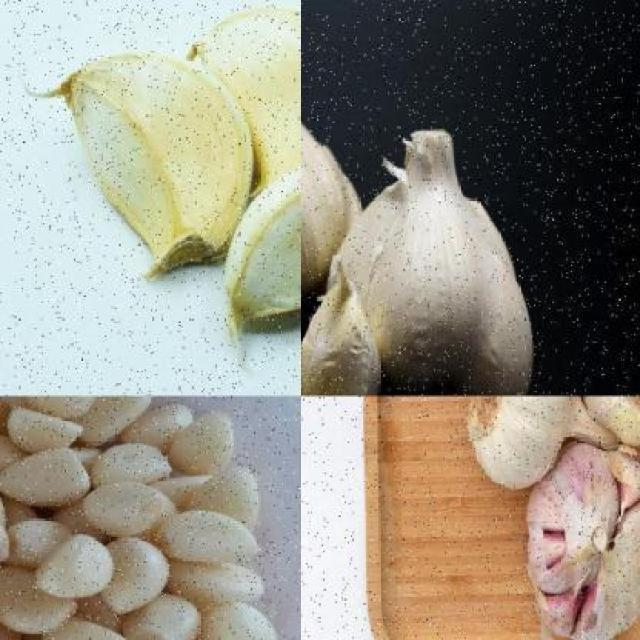garlic: (0, 396, 277, 639), (333, 127, 538, 396), (54, 52, 254, 288), (56, 452, 260, 616), (182, 2, 300, 216), (524, 442, 640, 640), (300, 76, 365, 316), (459, 396, 578, 494), (300, 276, 377, 396), (154, 508, 266, 570), (78, 478, 180, 540), (36, 532, 111, 596), (172, 412, 246, 474), (5, 405, 76, 457)
